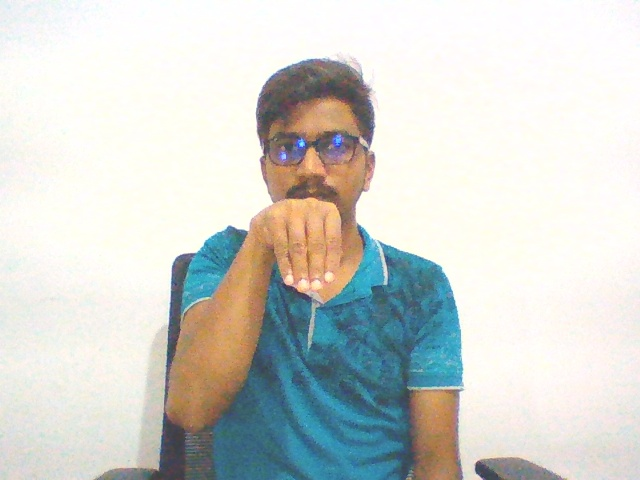Squirrel: (240, 186, 363, 310)
